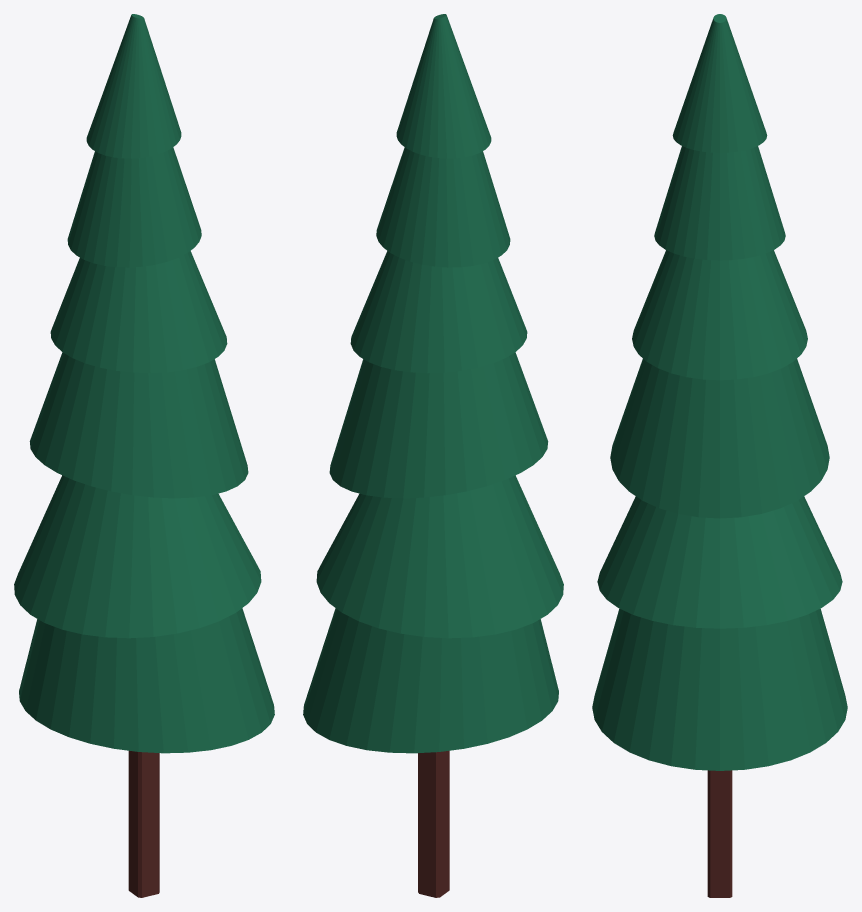
File: Arvore4.fbx
The picture shows the model from 3 angles, left to right: view 1: azimuth 30°, elevation 25°; view 2: azimuth 150°, elevation 25°; view 3: azimuth 270°, elevation 25°; orthographic projection.
Visible parts, largest first — view 1: Circle; view 2: Circle; view 3: Circle.
Boxes of the visible parts, bbox=[...] form: Circle: bbox=[14, 14, 274, 897]; Circle: bbox=[303, 14, 563, 897]; Circle: bbox=[592, 14, 847, 897].
Size of the model in its own units: 276 by 1019 by 270.
